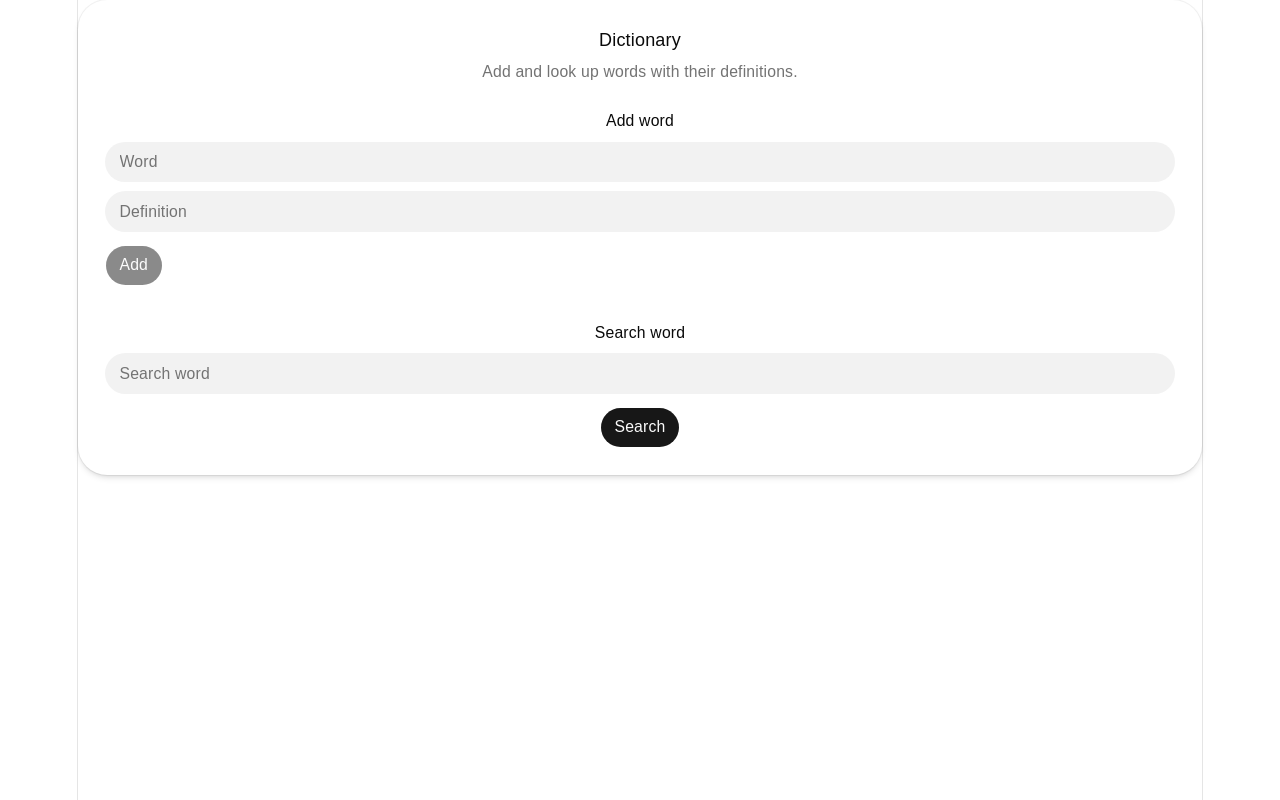
Test: DictionaryChallenge › adds a word successfully
The width and height of the screenshot is (1280, 800).
Type "Apple" into the field with placeholder "Word" at (640, 162), box top-left (105, 142), bottom-right (1175, 182)
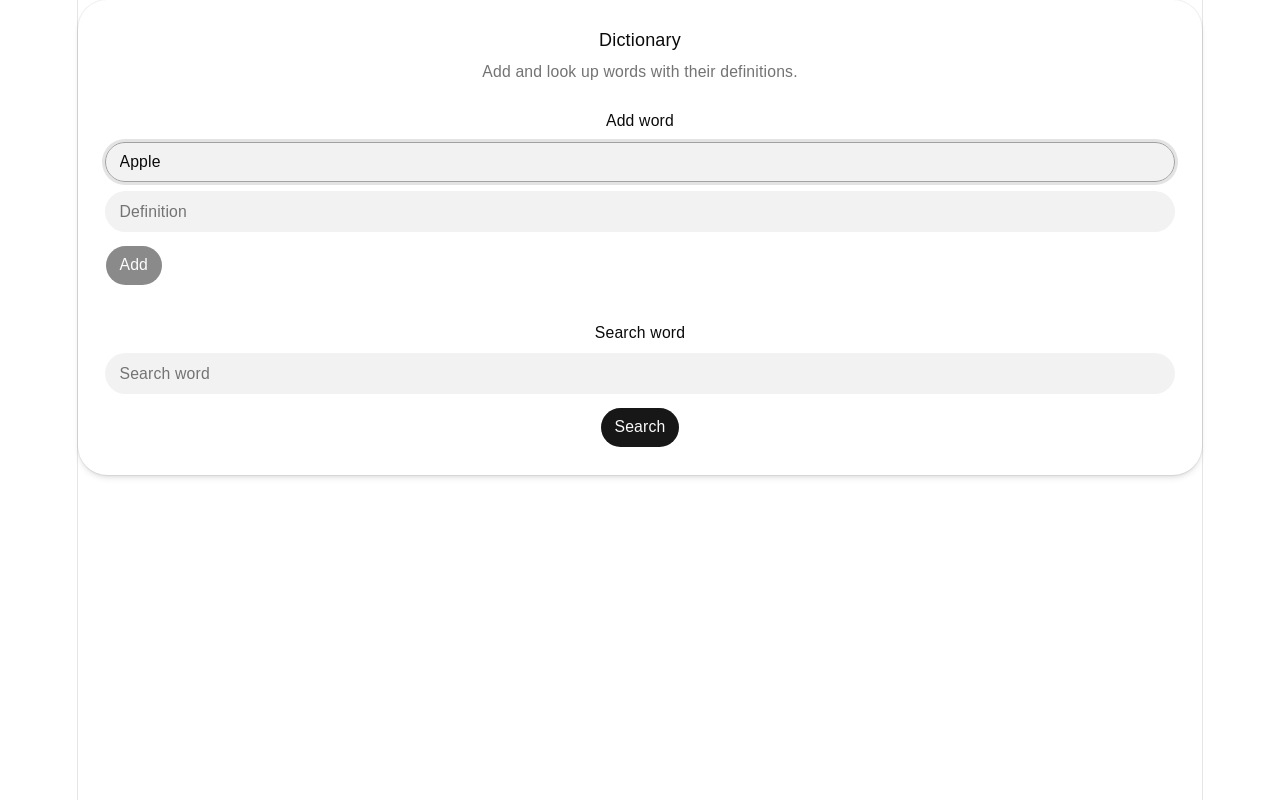
Type "A fruit" into the field with placeholder "Definition" at (640, 212), box top-left (105, 191), bottom-right (1175, 232)
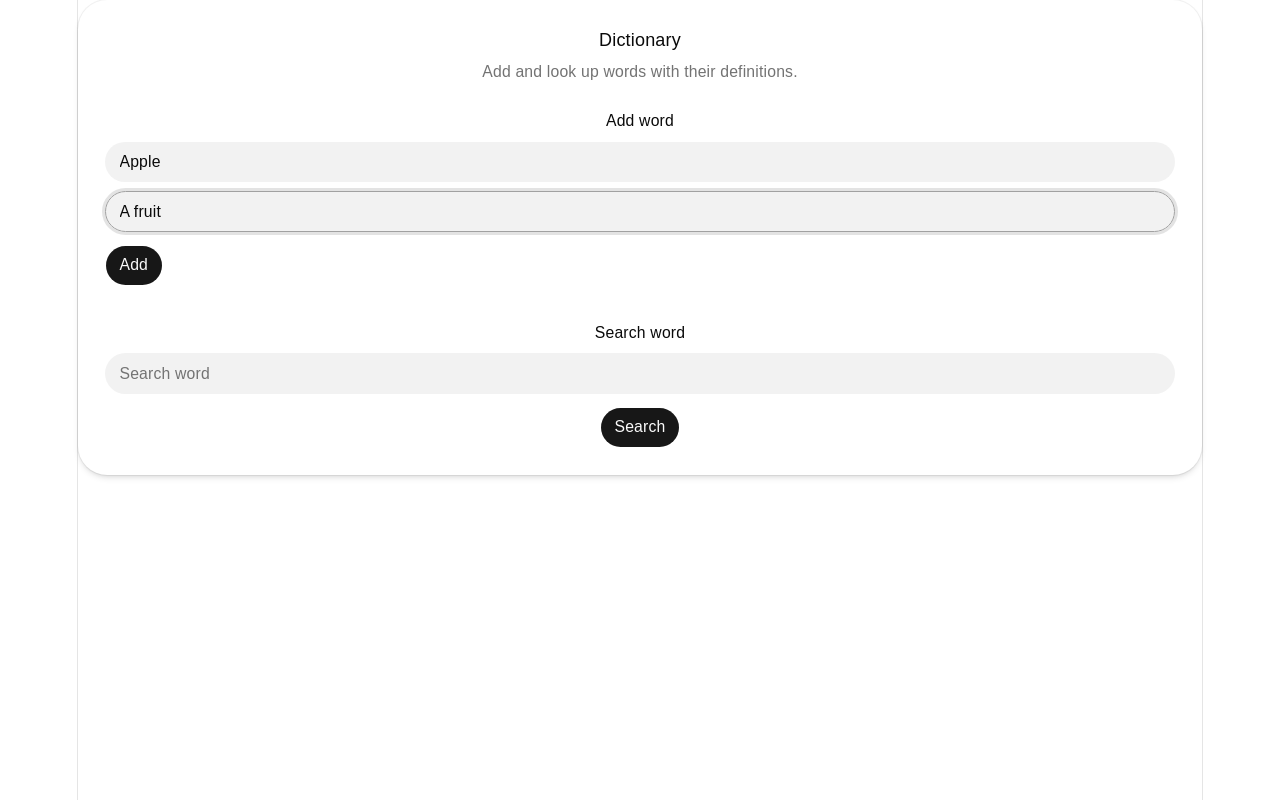
Click the button "Add" at (134, 266), box top-left (105, 245), bottom-right (163, 286)
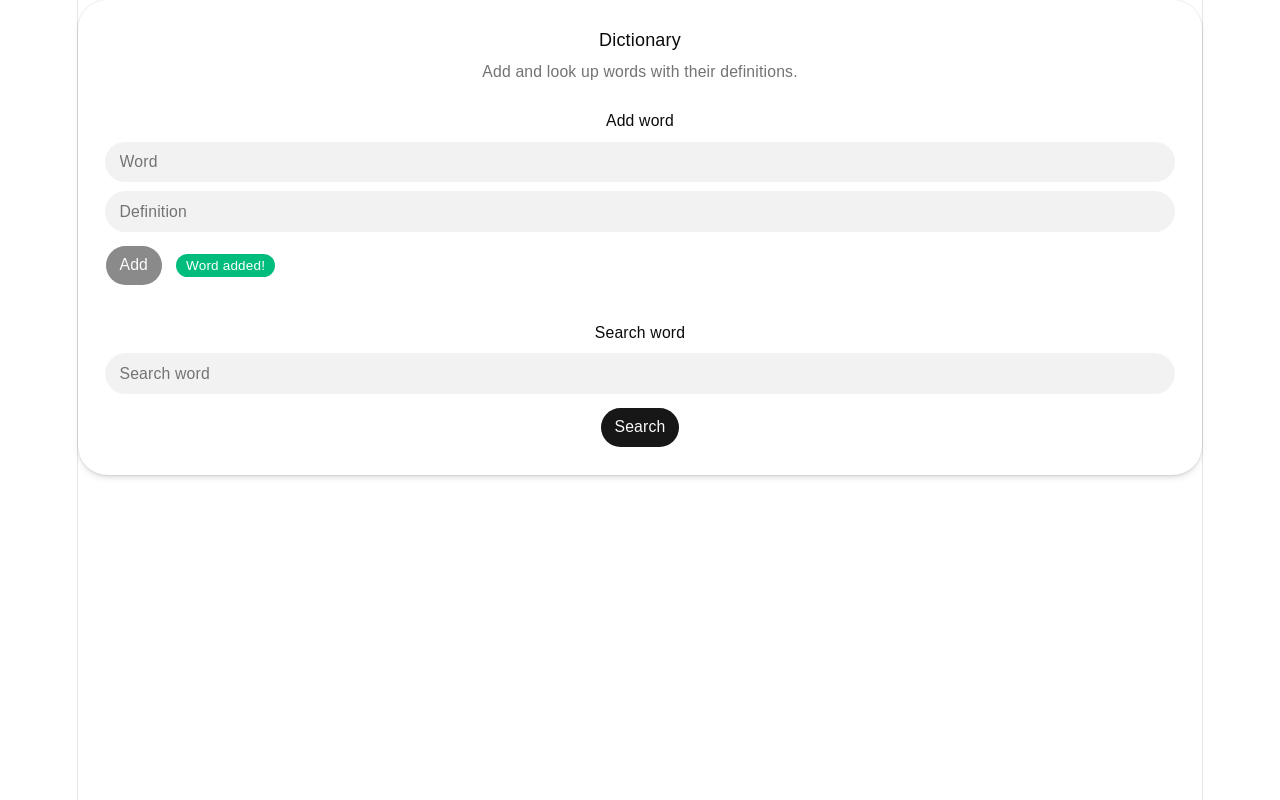
Check: the text "Word added!" is shown, box top-left (176, 254), bottom-right (275, 277)
